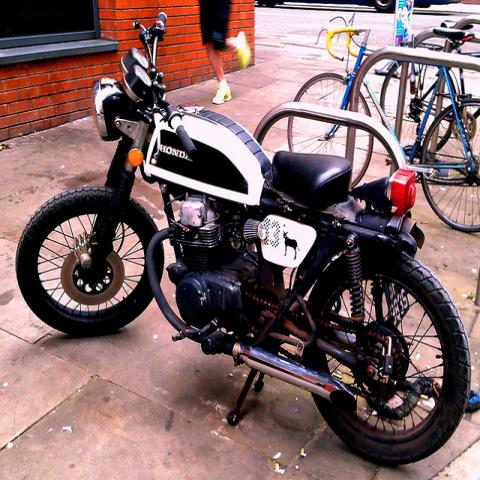motorcycle: (16, 12, 474, 466)
